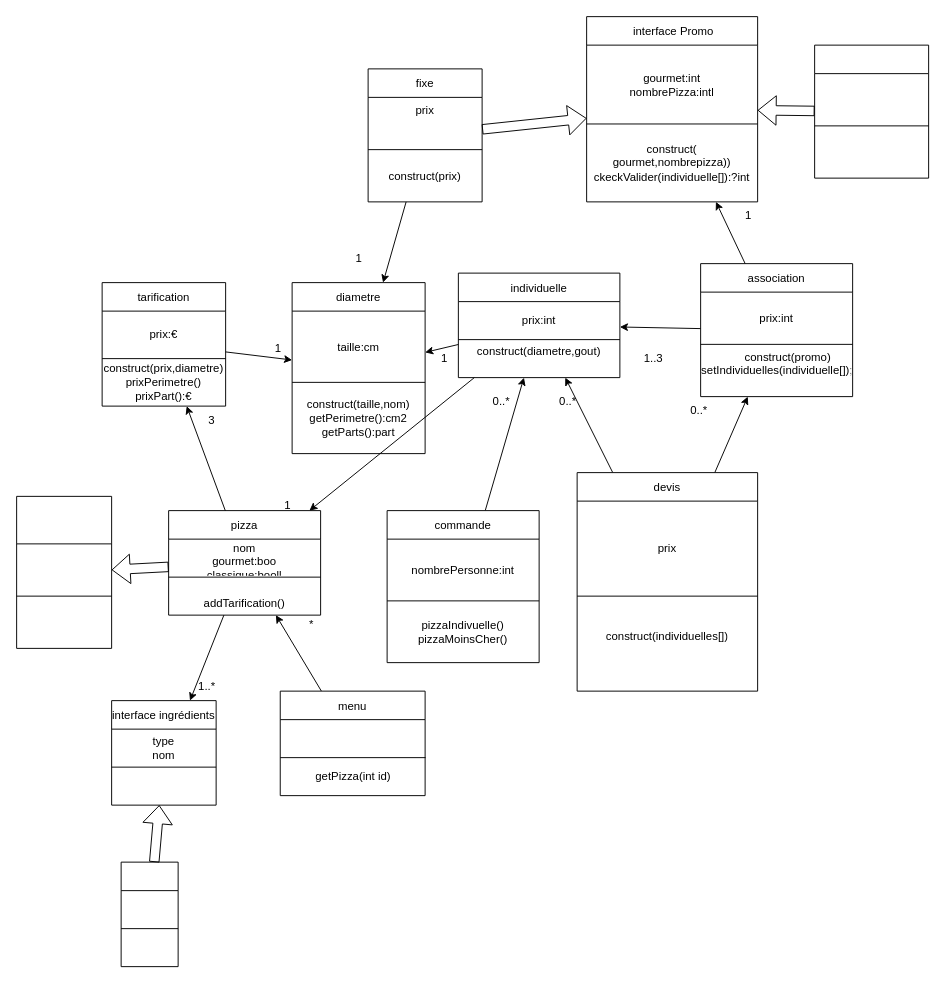
Image size: 945x983. Some labels were removed from this diagram. The shapes that lost their labels are listed below. From the top down, each one's centre as x and y in pixels, then its label:
At point 871,111: "variable".
At point 64,571: "interface gout".
At point 149,914: "tomate".
